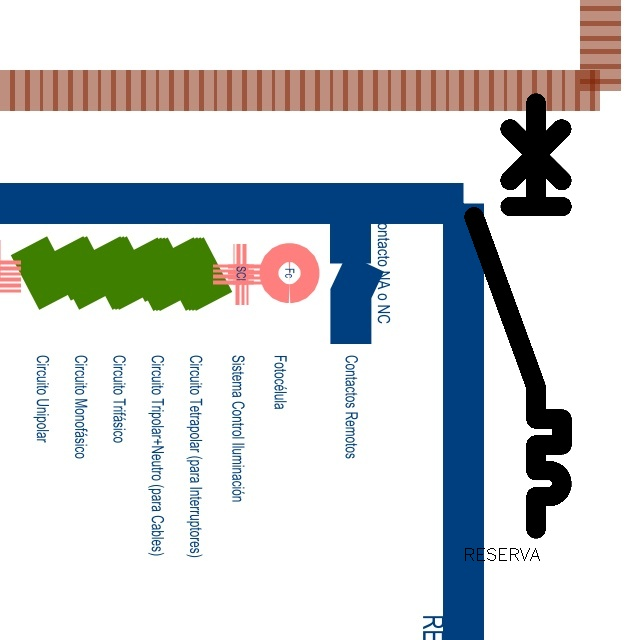interruptor_termomagnetico: (463, 92, 573, 540)
